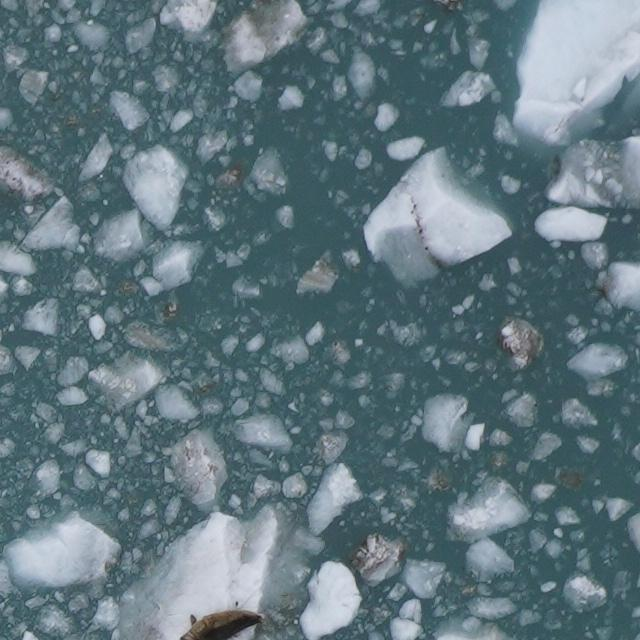seal: (173, 605, 271, 640)
